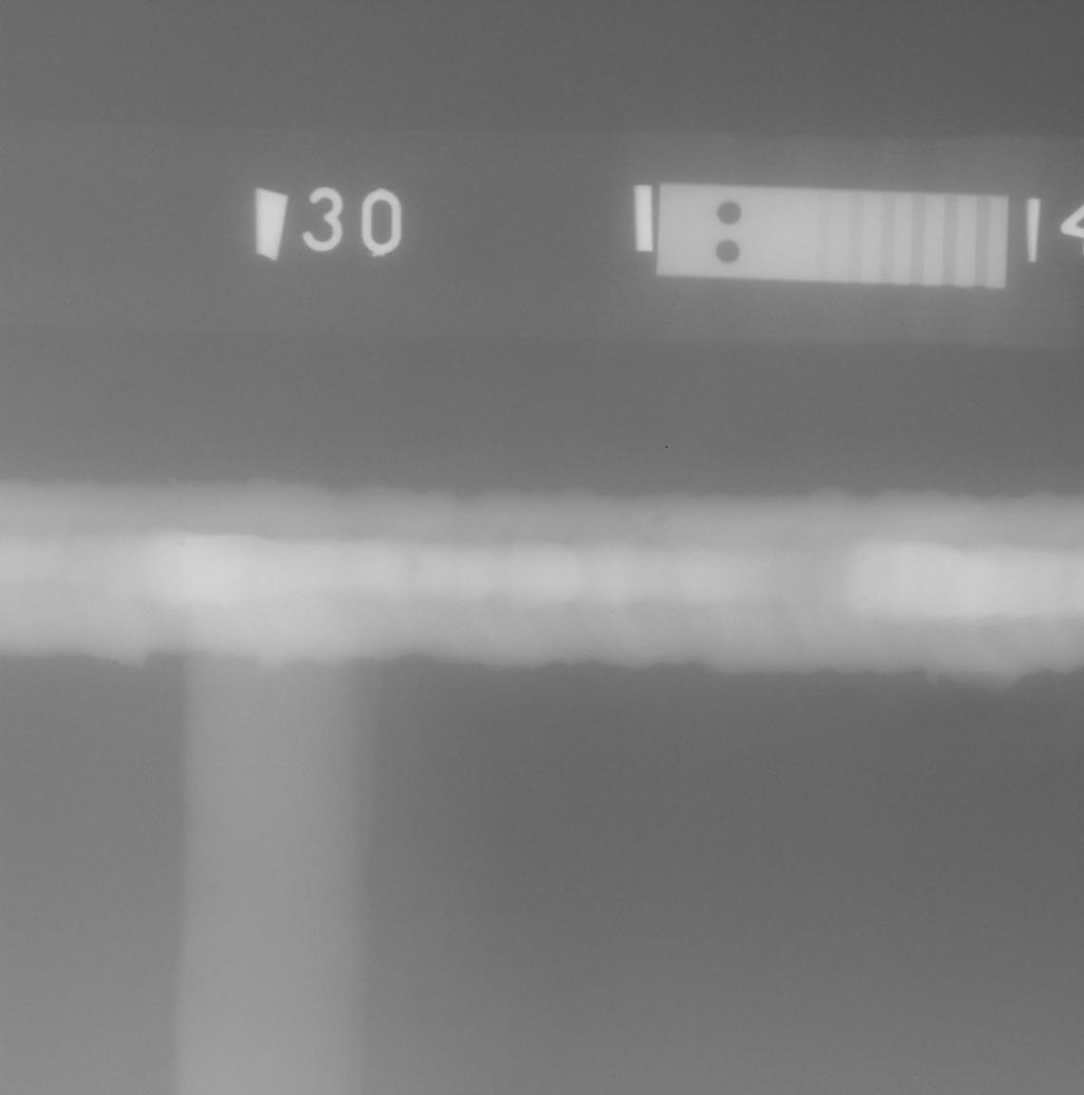Inclusion: (861, 554, 869, 562), (860, 596, 869, 603)
Pore/Porosity: (177, 541, 185, 547)
Reference Standard 2: (656, 183, 1009, 289)
